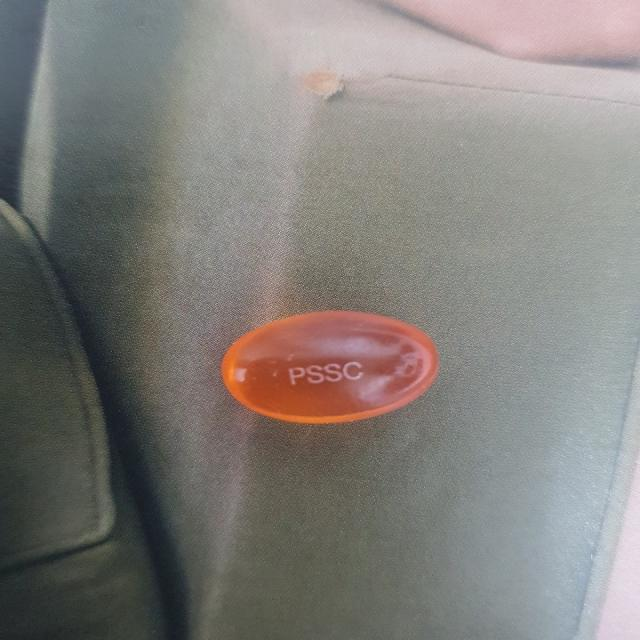pill: (222, 302, 450, 430)
